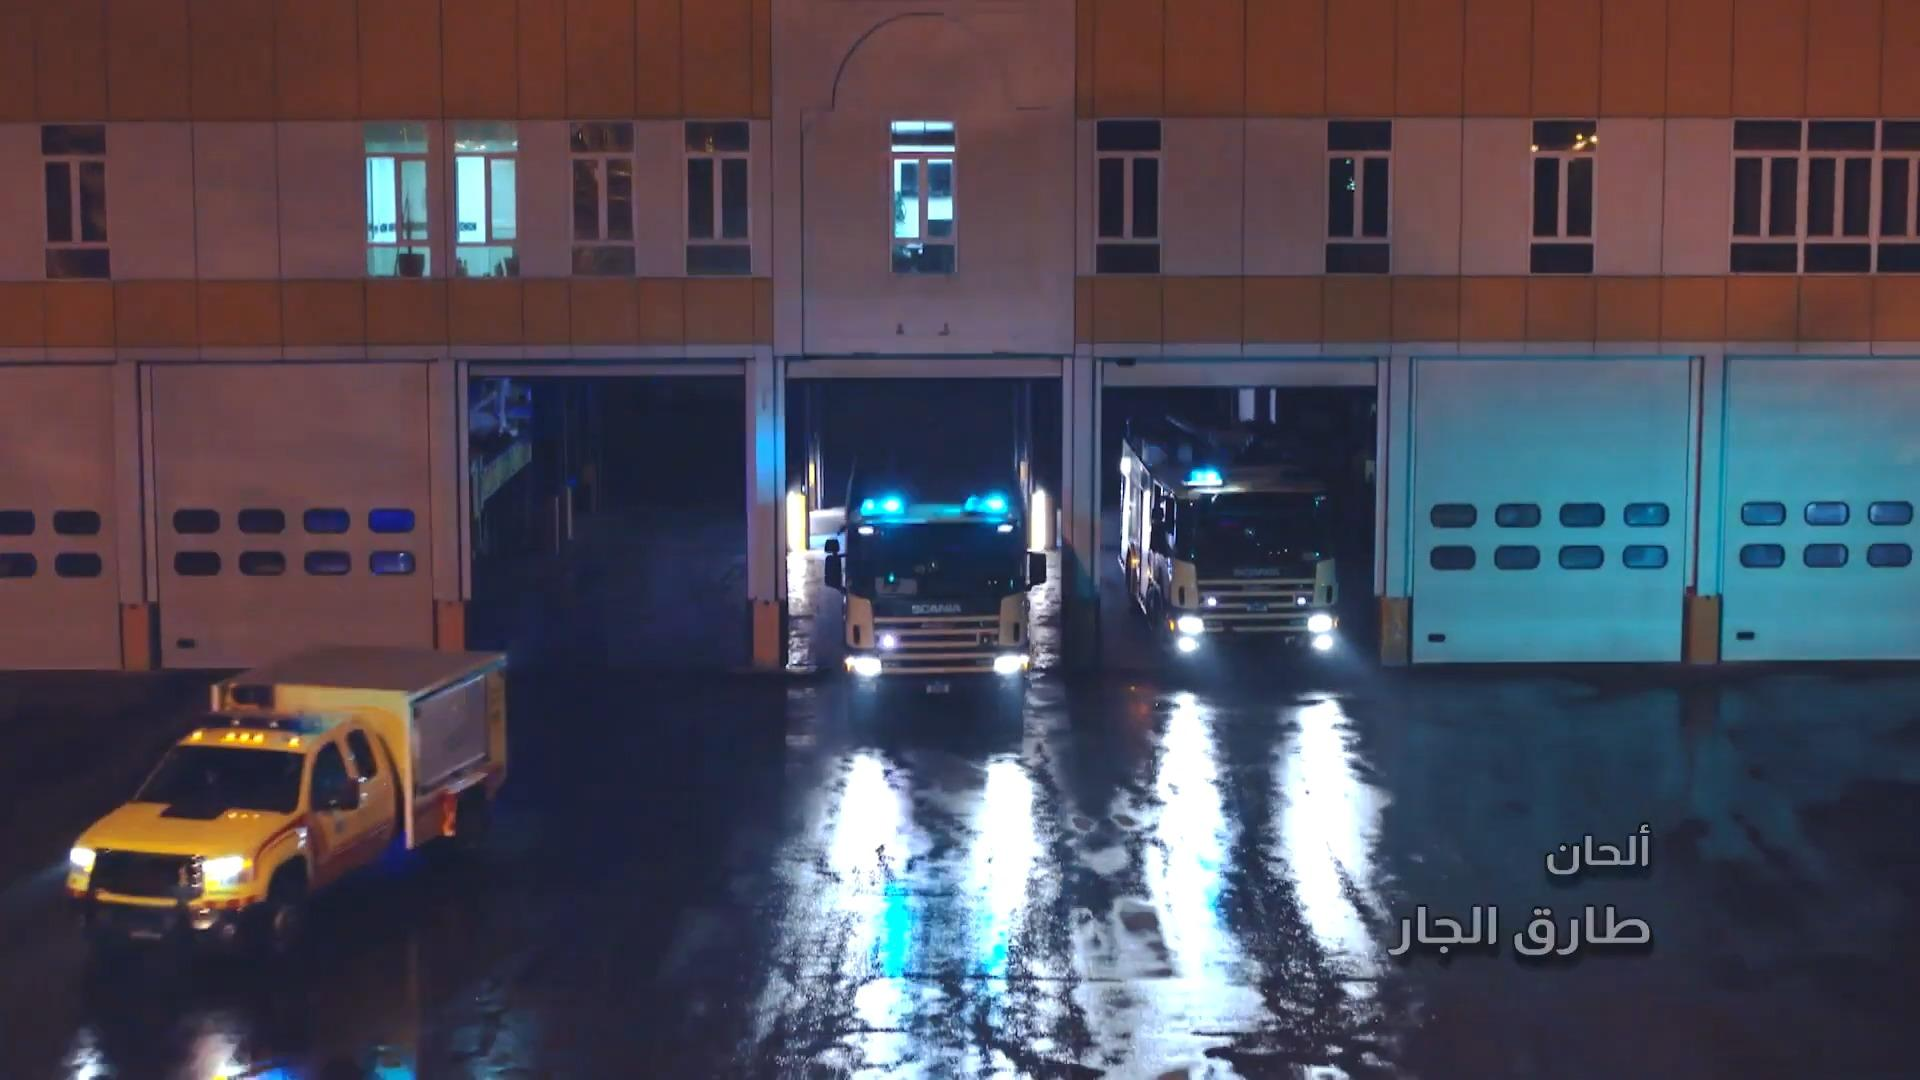firetruck_off: (69, 645, 505, 969)
firetruck_on: (825, 434, 1050, 731), (1117, 409, 1346, 687)
